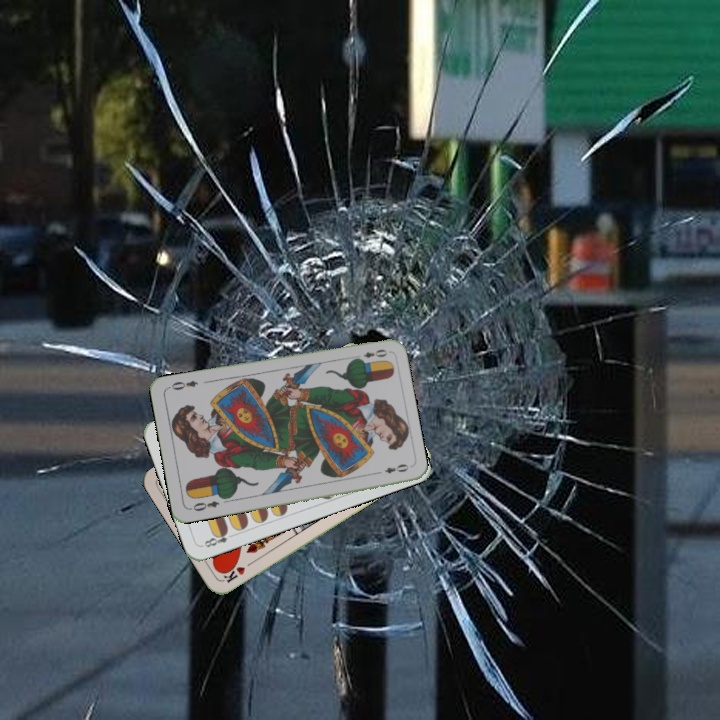E8: (198, 526, 238, 550)
EO: (350, 345, 390, 364), (189, 497, 222, 514)
HK: (218, 556, 257, 585)
